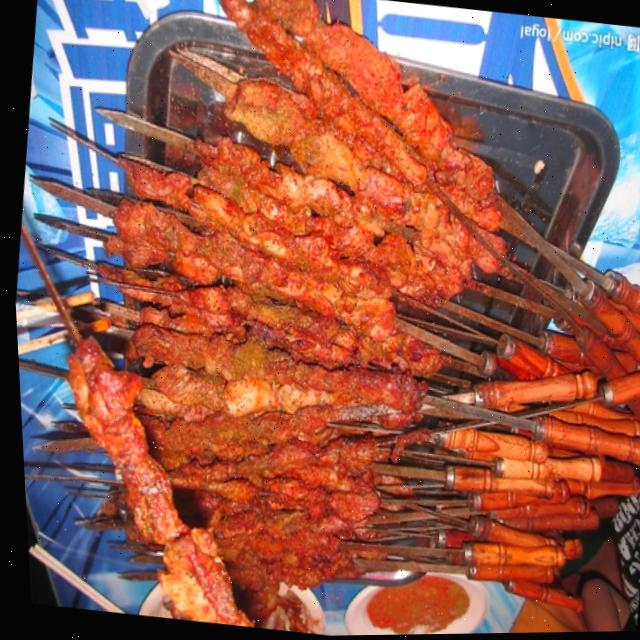烧串烤肉: (1, 0, 640, 640)
